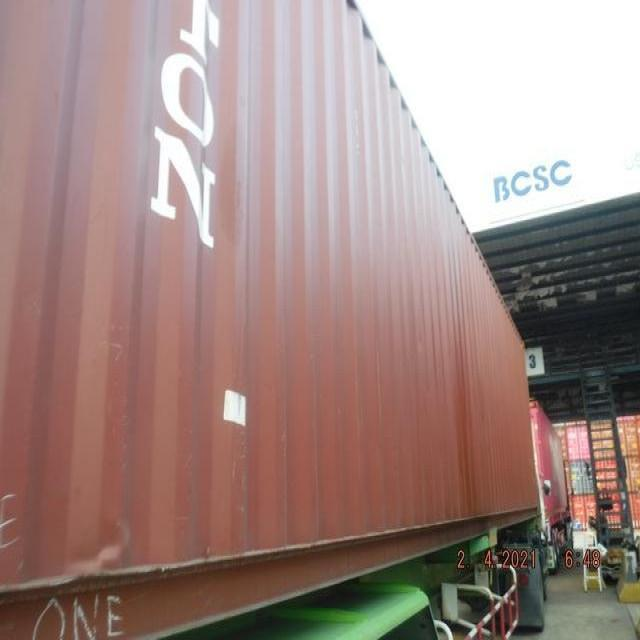Minor-Dent: (59, 495, 156, 572)
